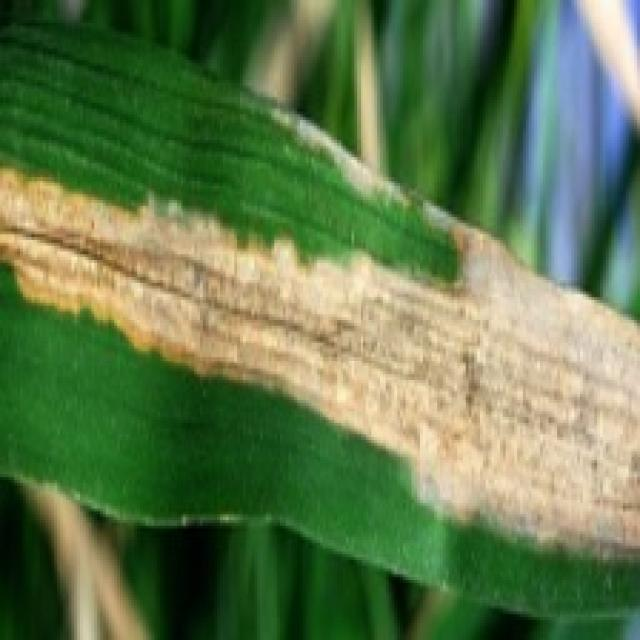Unhealthy: (0, 161, 640, 564), (22, 487, 156, 640), (264, 105, 414, 215), (241, 0, 340, 107), (576, 0, 640, 138), (353, 0, 384, 175)
